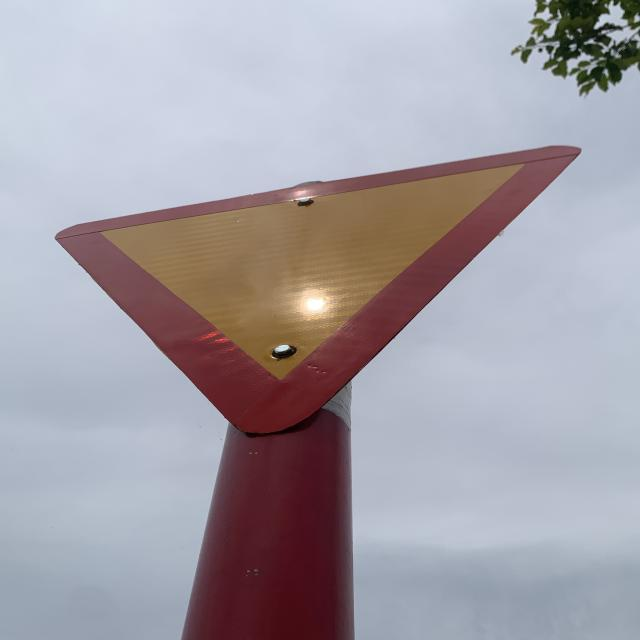Gioi_Han_Toc_Do_25: (52, 144, 583, 433)
